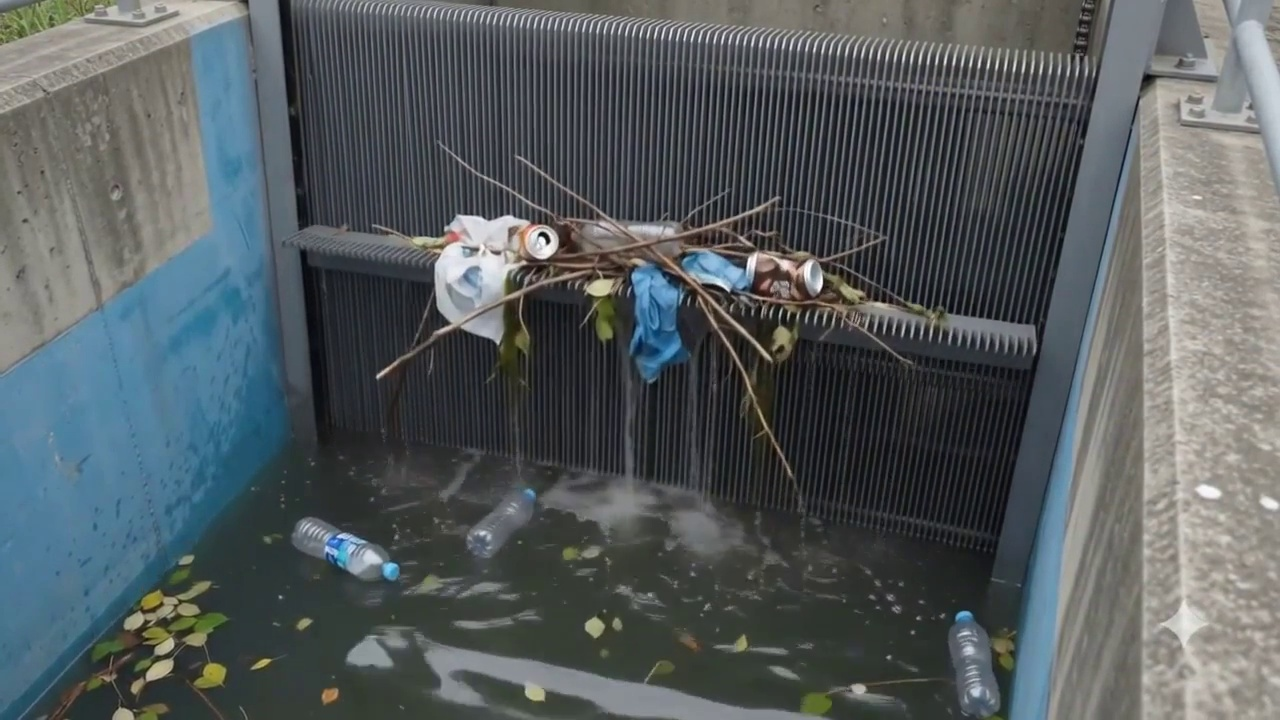debris: (378, 215, 831, 381), (291, 517, 399, 581), (949, 611, 1000, 717), (124, 591, 204, 653), (466, 488, 536, 557), (94, 641, 115, 657)
